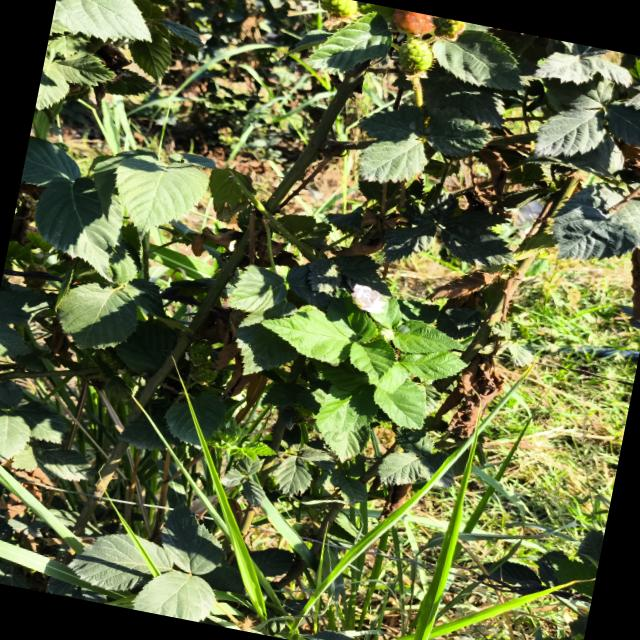boton: (379, 328, 394, 341), (397, 325, 410, 335)
flor: (351, 284, 386, 314)
